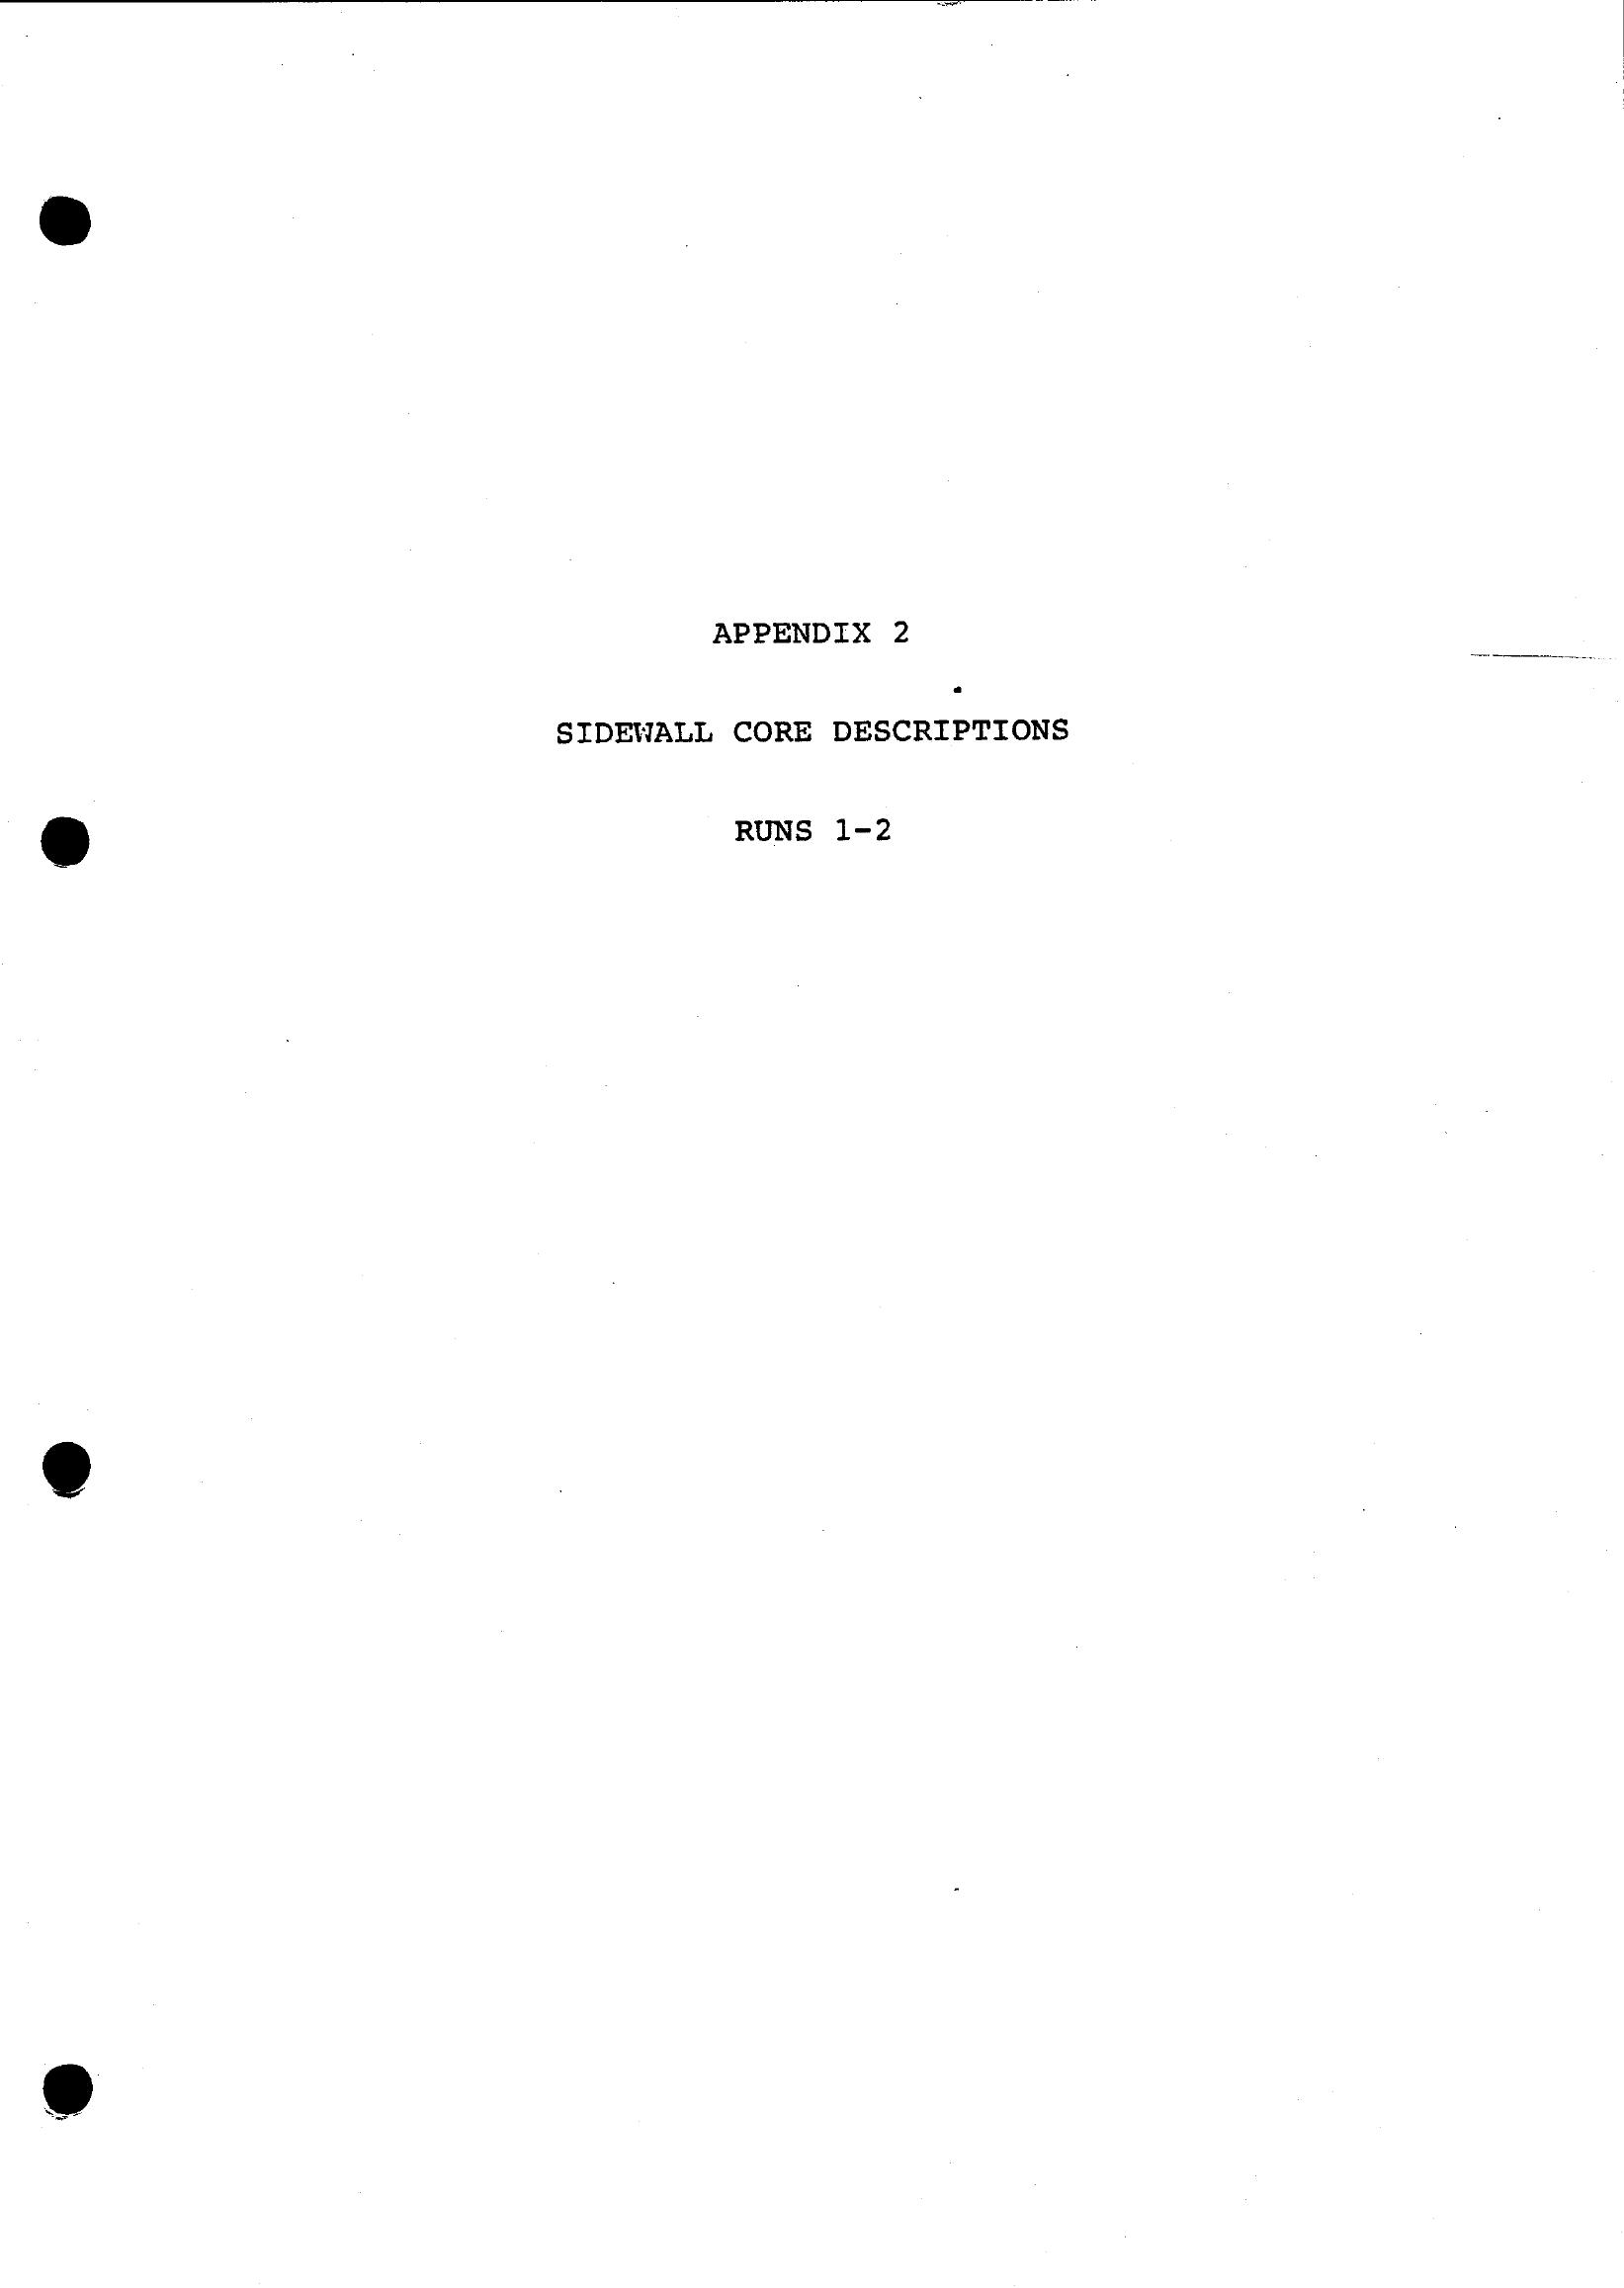text: (473, 541, 1155, 931)
